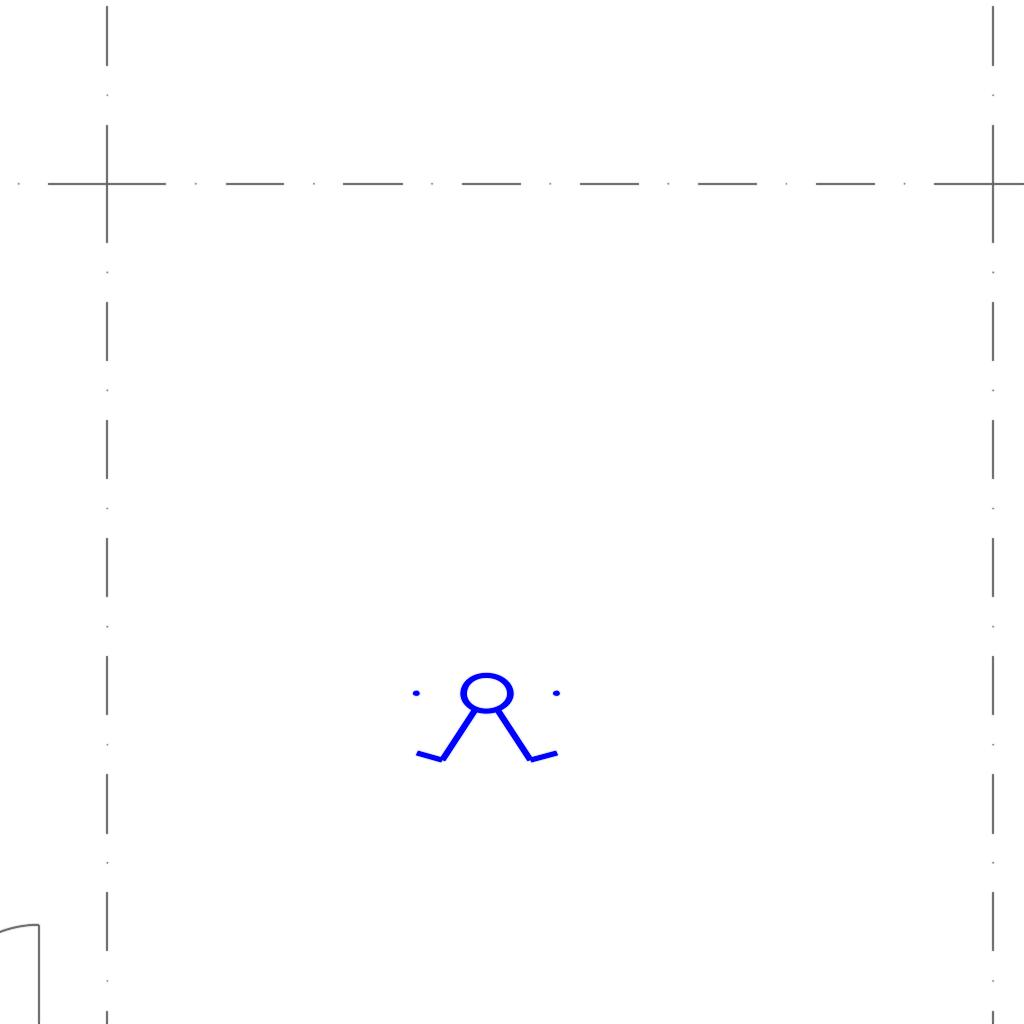Serienschalter: (404, 671, 572, 767)
